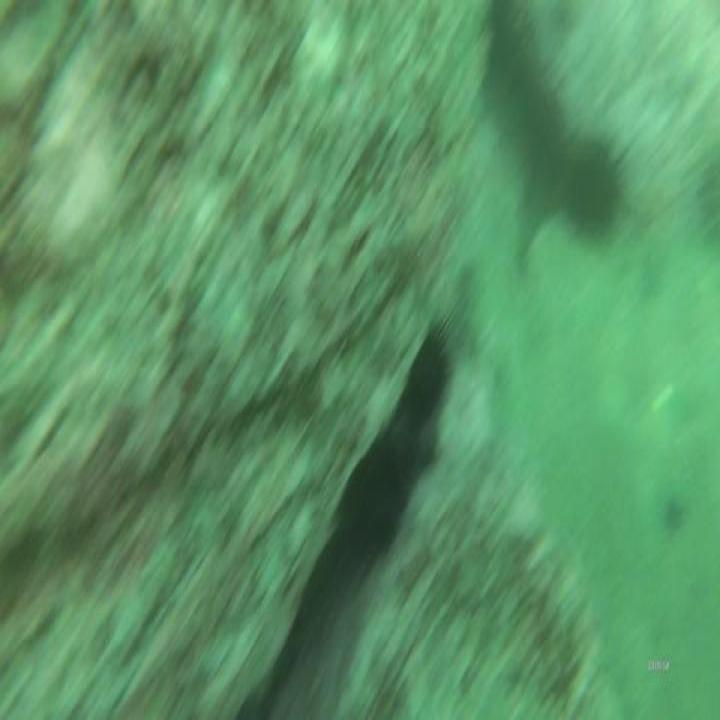echinus: (345, 420, 415, 558), (564, 124, 624, 243), (405, 316, 451, 434)
